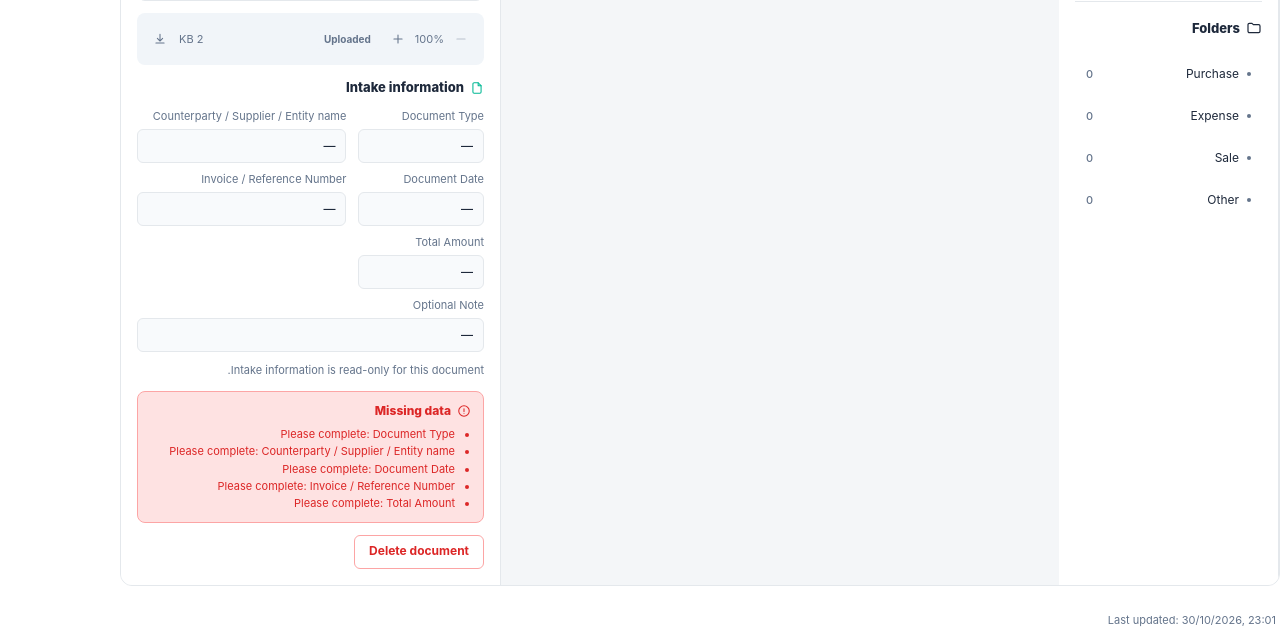
Test case: Documents delete › shows the specific blocking dependency and keeps the document
(page scrolled)
Step 1. Click the button "Delete document" → (419, 552), box [354,535,484,569]
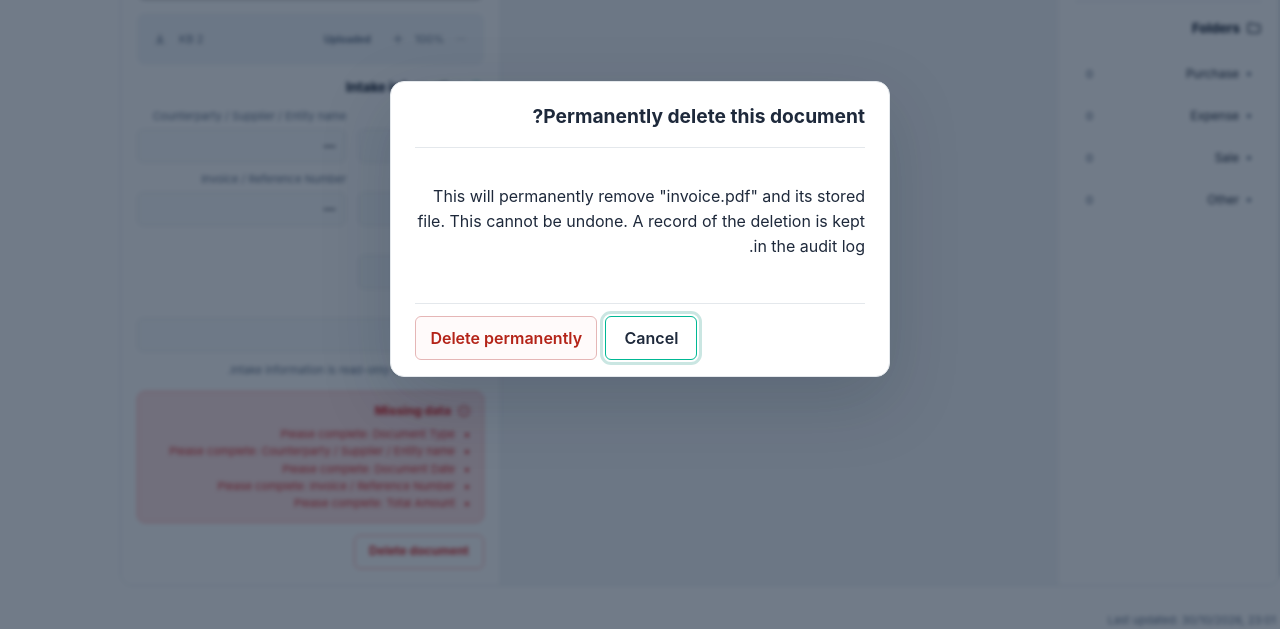
Step 2. Click the button "Delete permanently" → (506, 338), box [415,316,597,360]
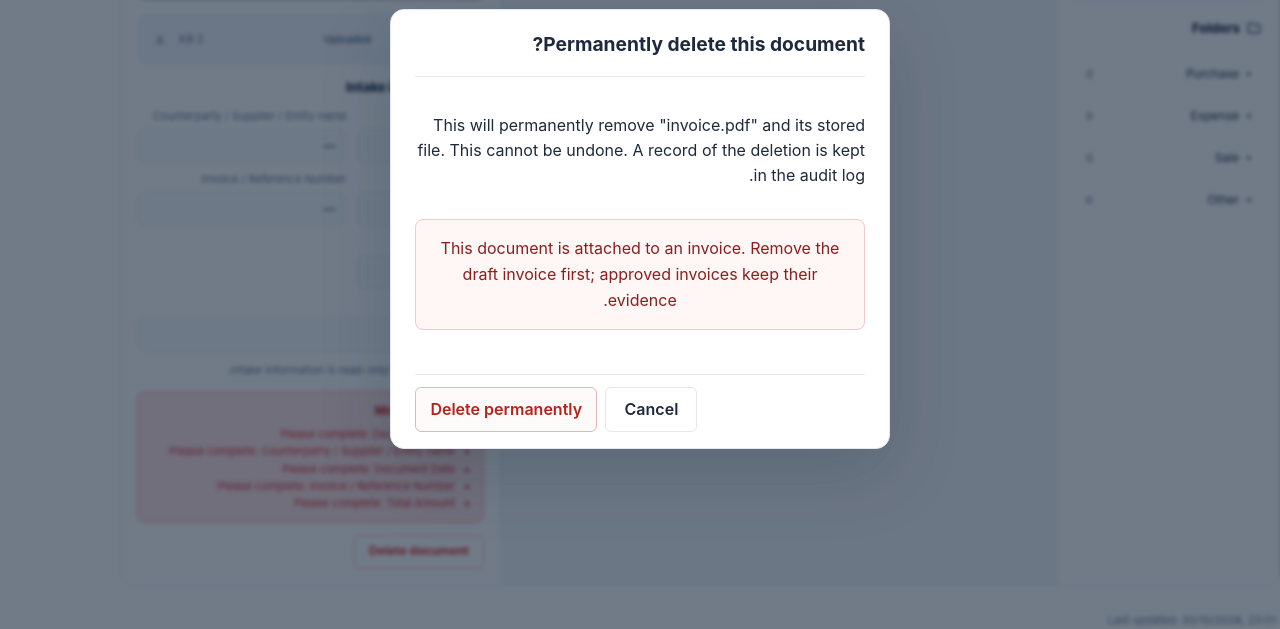
Expected: the text "attached to an invoice" is shown, [441,238,839,310]
